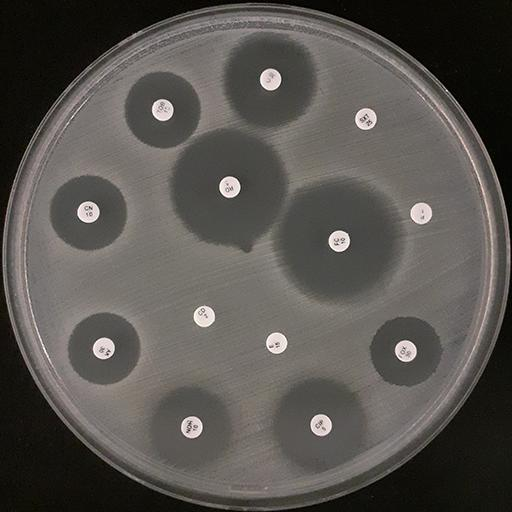disc: (409, 201, 433, 225), (76, 200, 100, 224), (92, 336, 116, 360), (394, 339, 418, 363), (354, 106, 377, 131), (327, 229, 351, 252), (218, 175, 241, 199), (265, 331, 288, 355), (309, 413, 332, 437), (151, 98, 174, 121), (259, 68, 282, 91), (193, 305, 216, 328), (180, 415, 203, 438)
